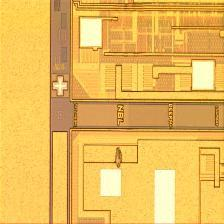PARTICLE: (113, 146, 126, 171)
